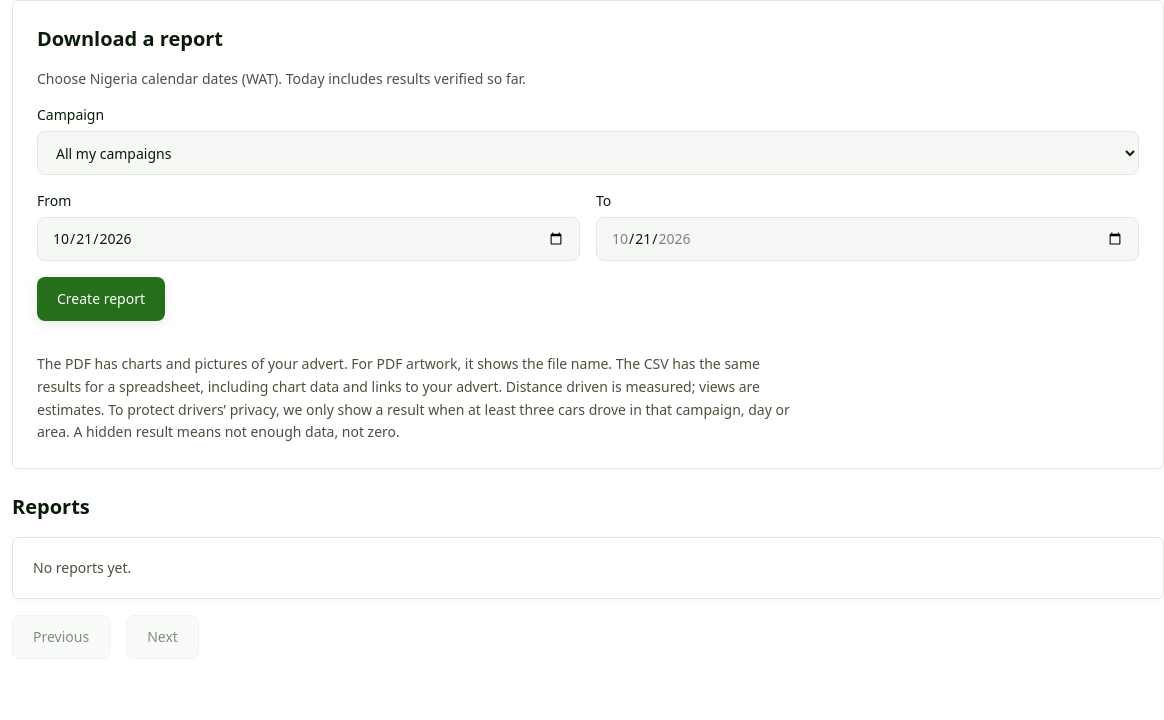
sends the selected Nigeria dates and one campaign
The image size is (1164, 720).
Expected: the text "No reports yet." is shown, [12,537,1163,599]
Select "Lagos launch" in the dropdown labelled "Campaign": (588, 153) [37,131,1139,175]
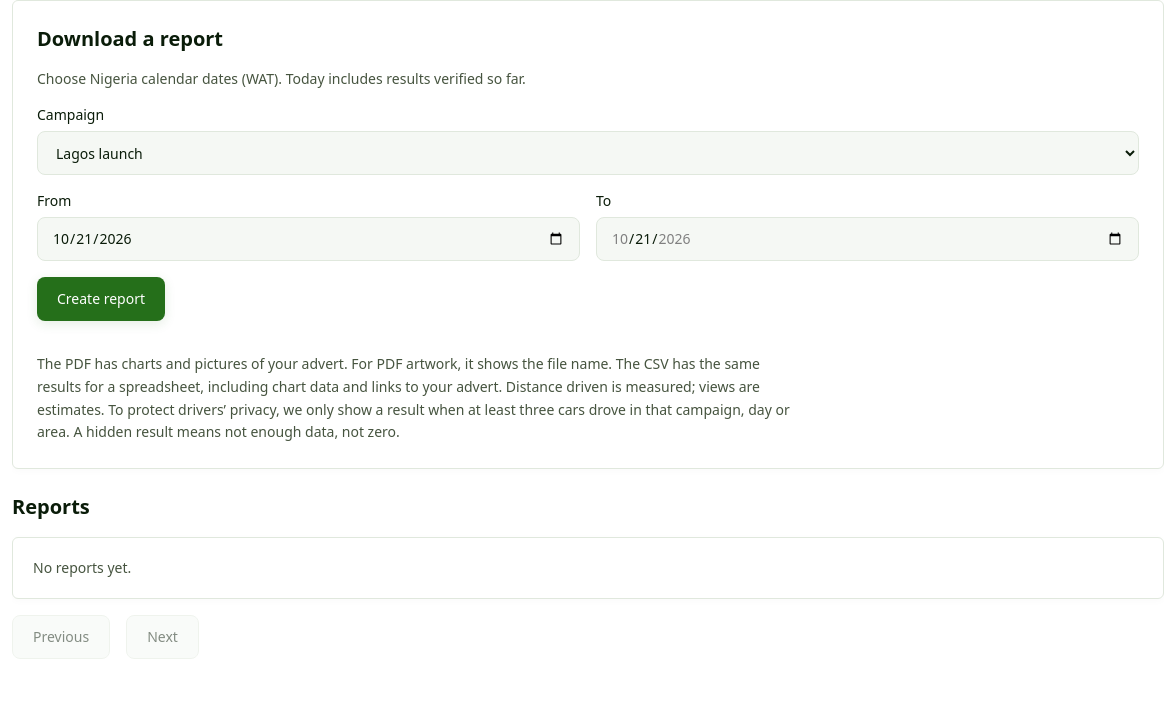
In the date field labelled "From": (308, 239) [37,217,580,261], type "2026-10-19"
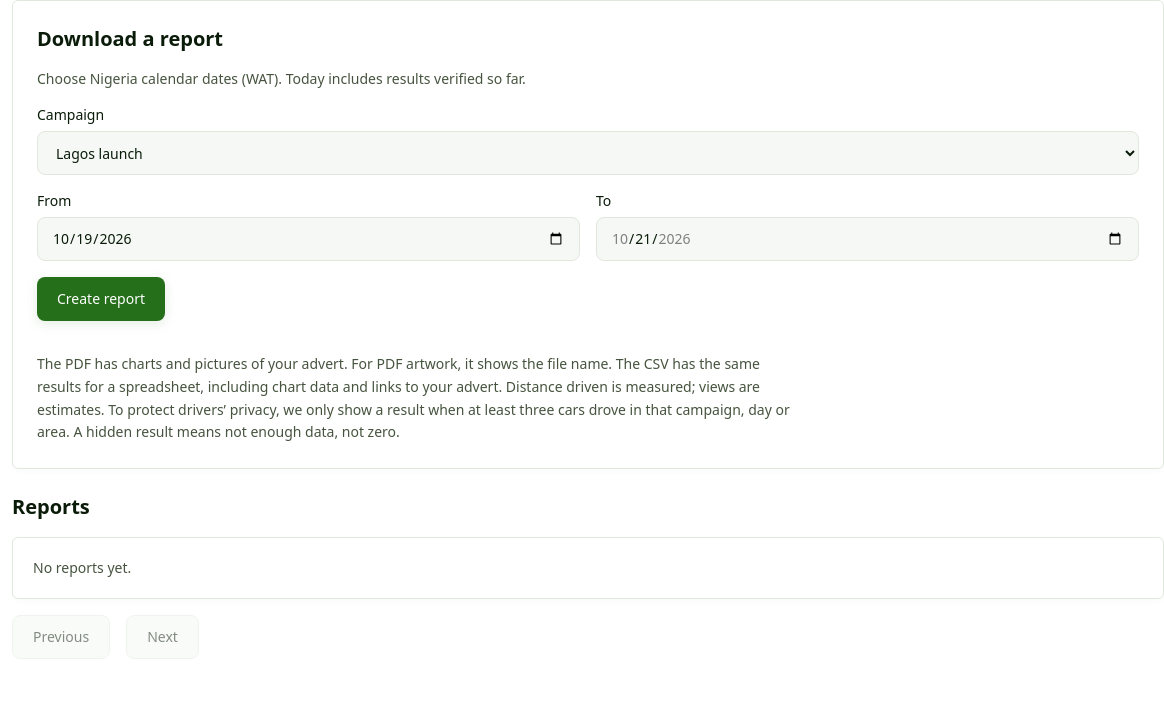
Click the button "Create report": (101, 299) [37,277,165,321]
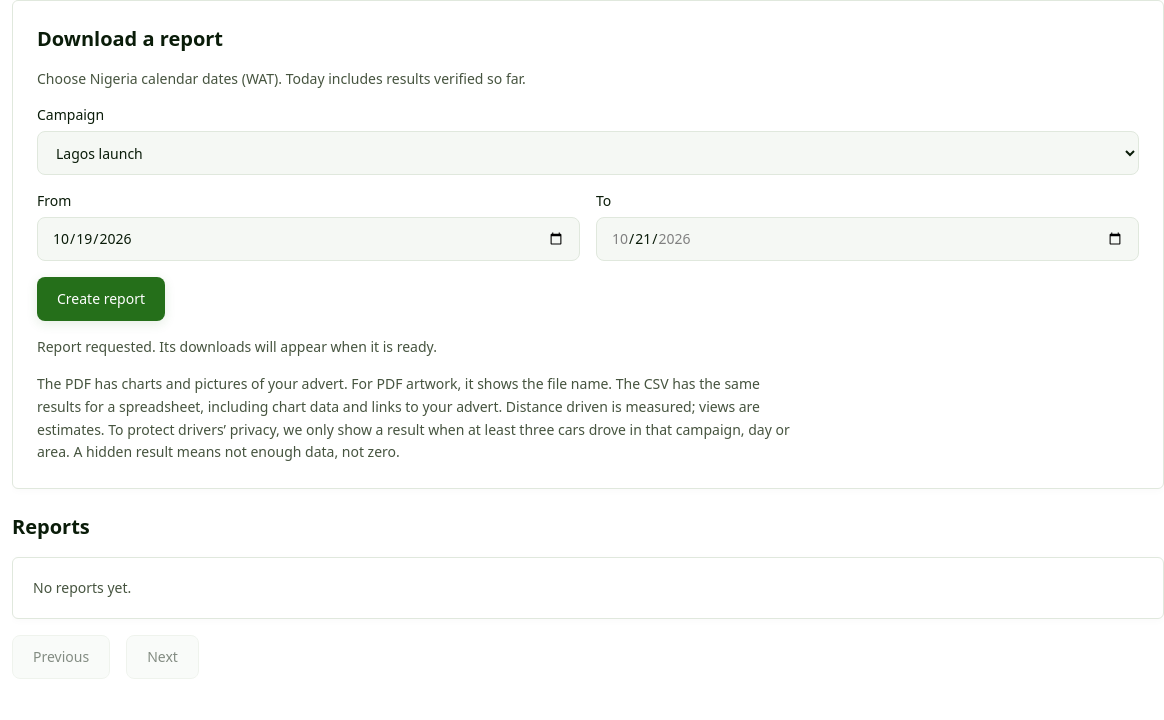
Expected: the text "Report requested. Its downloads will appear when it is ready." is shown, [37,337,437,356]
